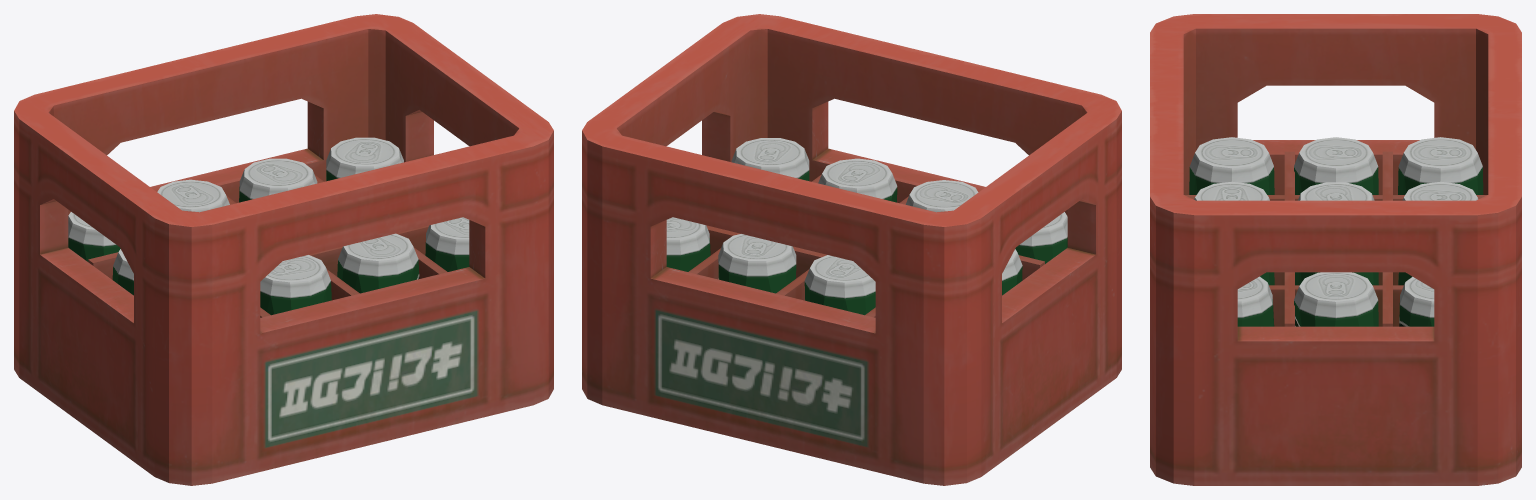
Rendered from P_Drink_012_S1_M02.obj.
3 renders of one model, left to right at view 1: azimuth 30°, elevation 25°; view 2: azimuth 150°, elevation 25°; view 3: azimuth 270°, elevation 25°, orthographic. The views are drawn at different scales.
Bounding box in the file's own units: 0.7965 × 0.5 × 0.6223.
Materials: 1 (1 with a texture image).
